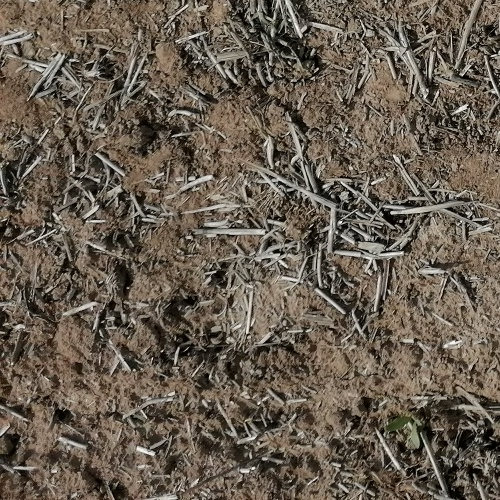beet: (384, 407, 427, 450)
